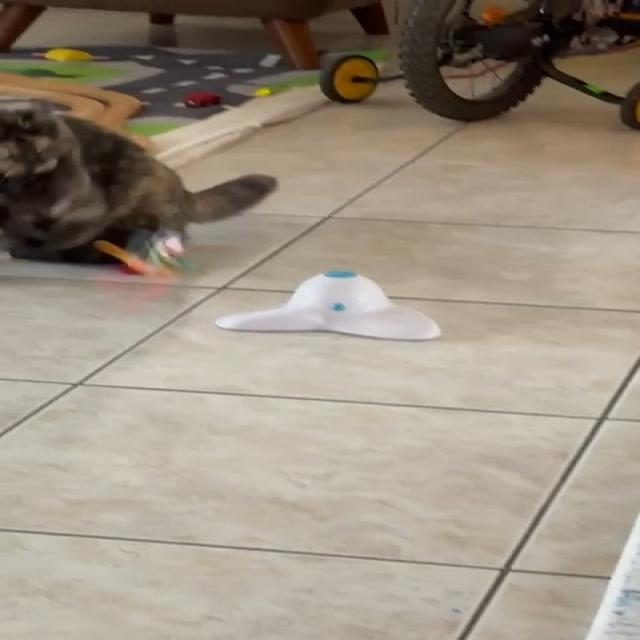authorized: (0, 98, 277, 265)
